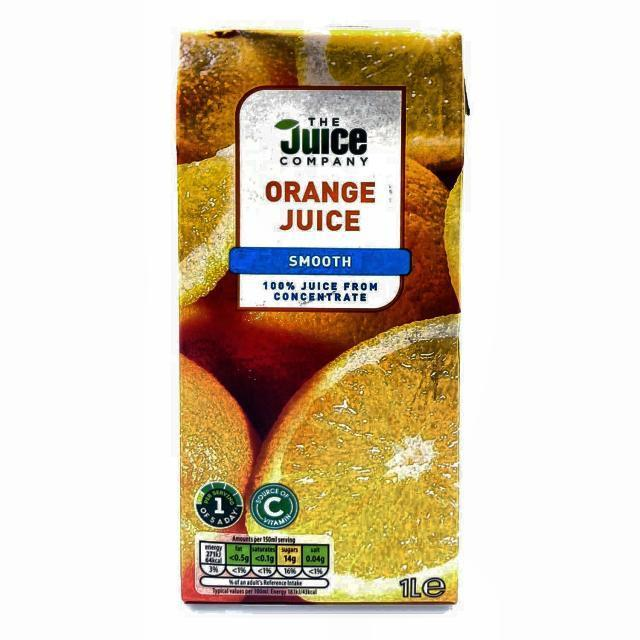cardboard: (177, 29, 465, 604)
